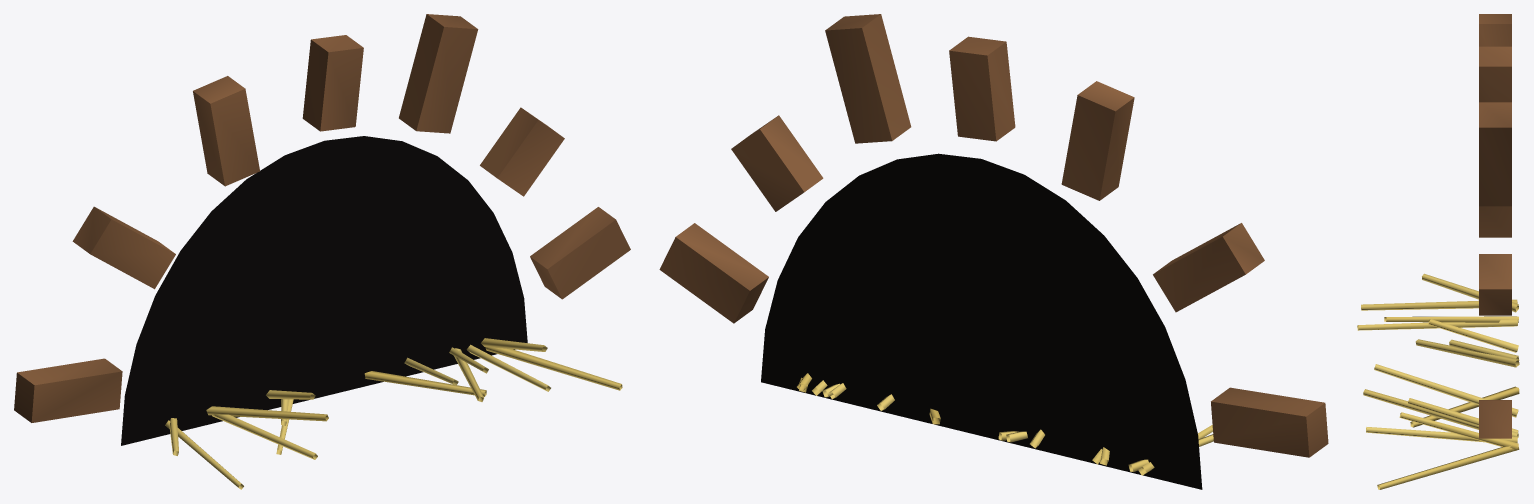
File: BarnHole.glb
The picture shows the model from 3 angles, left to right: view 1: azimuth 30°, elevation 25°; view 2: azimuth 150°, elevation 25°; view 3: azimuth 270°, elevation 25°; orthographic projection. The views are drawn at different scales.
Parts seen in each view (by area): view 1: HoleDark, Splinters, HoleStraw; view 2: HoleDark, Splinters, HoleStraw; view 3: Splinters, HoleStraw.
Part boxes in pixels (<box>): HoleDark: <box>121,136,527,445</box>; Splinters: <box>14,14,630,422</box>; HoleStraw: <box>165,338,622,489</box>; HoleDark: <box>761,153,1202,489</box>; Splinters: <box>659,14,1328,457</box>; HoleStraw: <box>797,373,1213,475</box>; Splinters: <box>1479,14,1511,438</box>; HoleStraw: <box>1357,273,1519,489</box>.
Bounding box in the file's own units: 0.5889 × 0.3366 × 0.1476.
